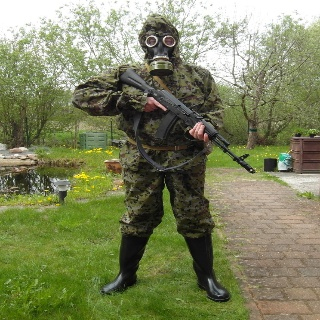rifle: (119, 66, 255, 174)
